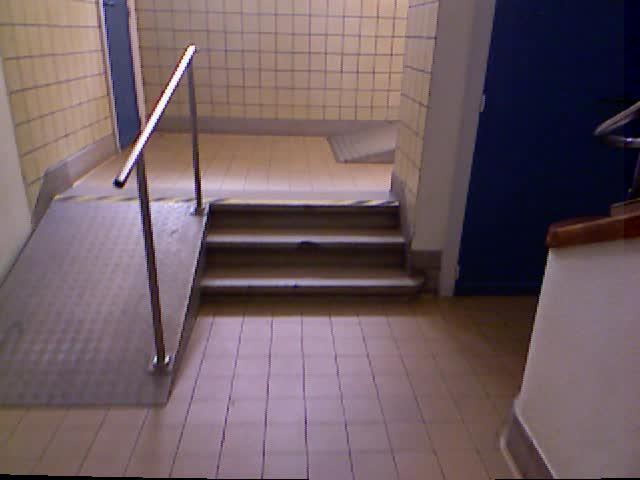Escaleras: (211, 203, 415, 299)
